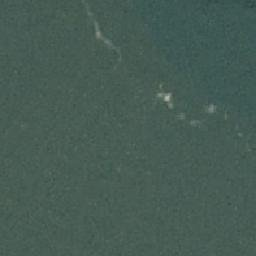debris: (155, 90, 173, 109), (204, 102, 218, 113), (94, 22, 101, 40), (107, 40, 118, 51)
